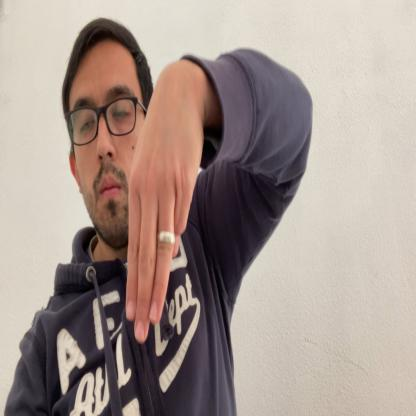M: (124, 74, 202, 344)
